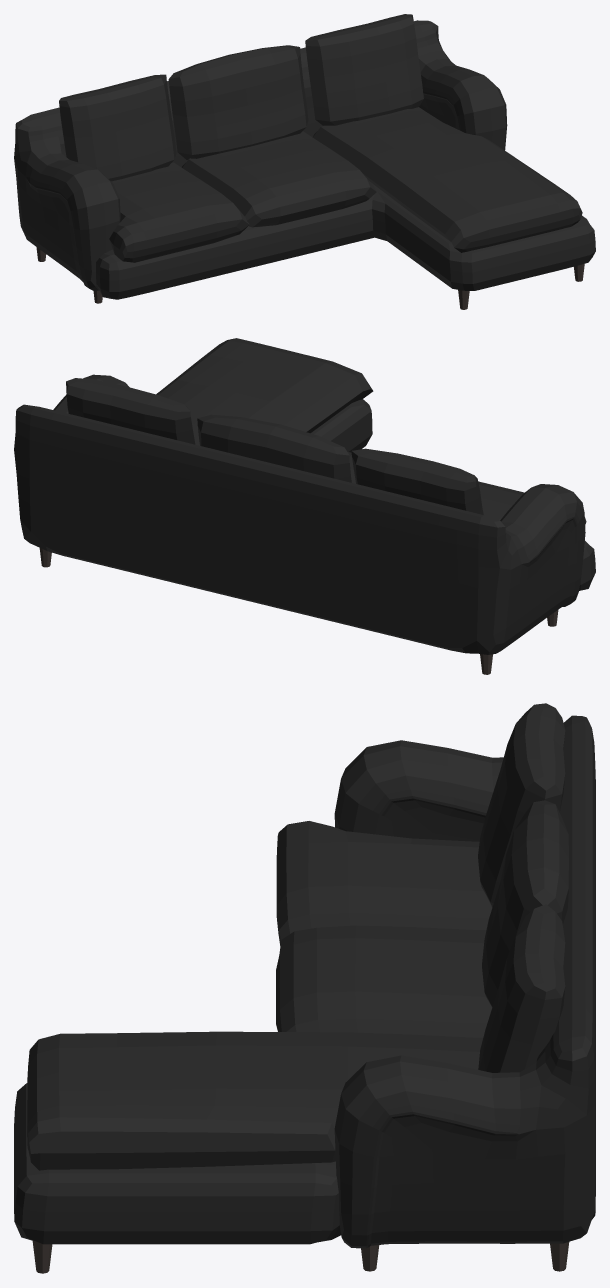
File: Sofa3.glb
The picture shows the model from 3 angles, top to bottom: view 1: azimuth 30°, elevation 25°; view 2: azimuth 150°, elevation 25°; view 3: azimuth 270°, elevation 25°; orthographic projection. The views are drawn at different scales.
Visible parts, largest first — view 1: Sofa3; view 2: Sofa3; view 3: Sofa3.
Boxes of the visible parts, bbox=[...] form: Sofa3: bbox=[14, 14, 595, 309]; Sofa3: bbox=[14, 338, 595, 674]; Sofa3: bbox=[14, 703, 595, 1273].
Bounding box in the file's own units: 2.66 × 0.9659 × 1.86.
2 materials, 2 textured.
